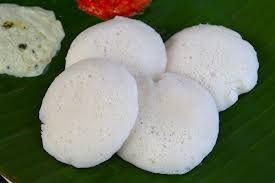idli: (41, 16, 260, 175)
